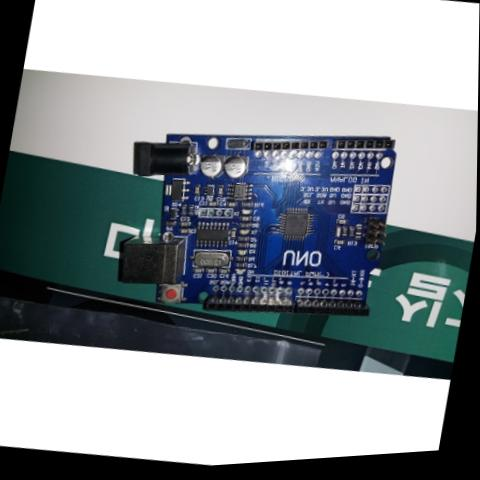Arduino-Uno: (107, 102, 403, 346)
